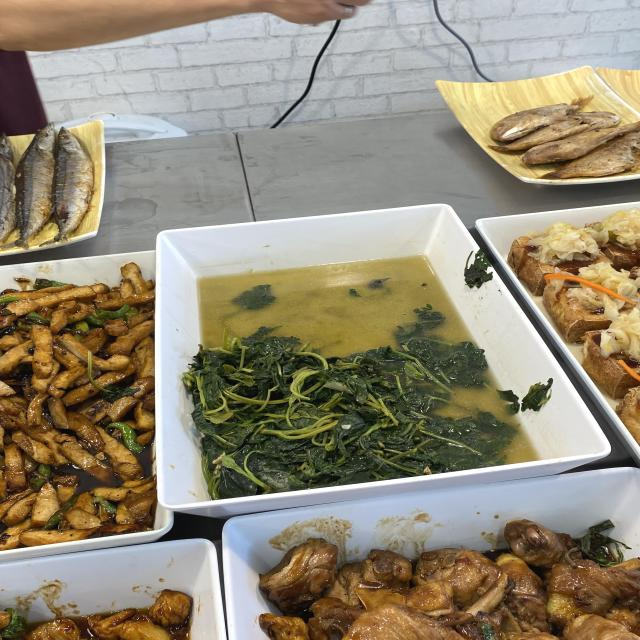Fried dried beans: (10, 304, 142, 512)
sweet potato leaves: (218, 352, 470, 458)
